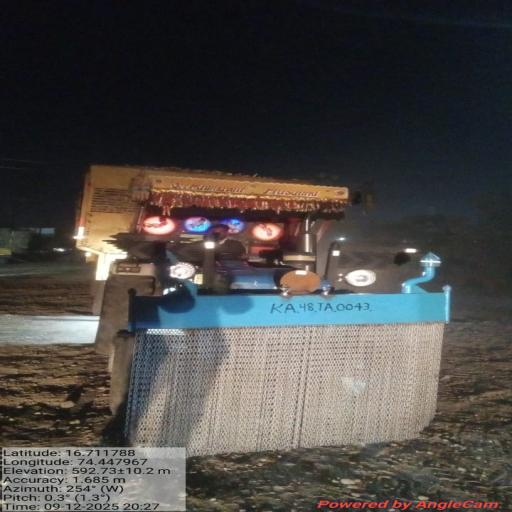number_plate: (242, 288, 404, 320)
